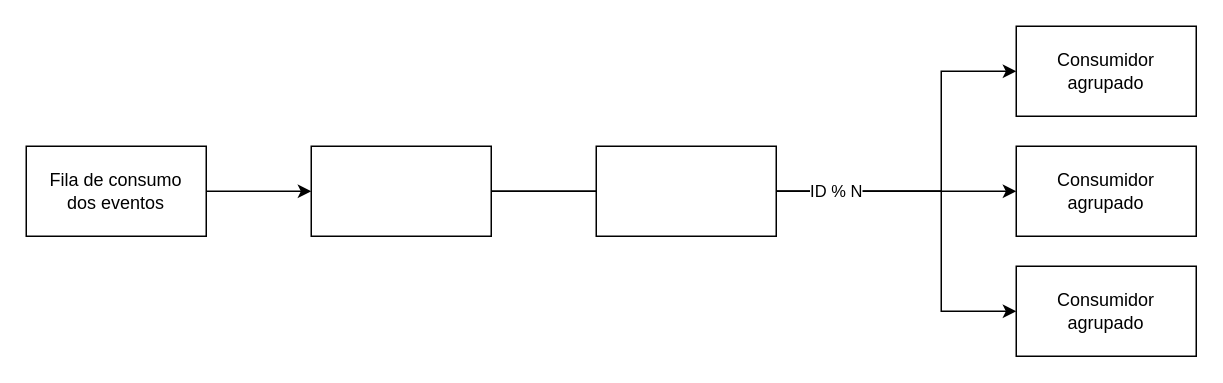
This 1223x383 diagram has some shape labels left out. Here are the shapes that lost their labels. From the top down, the box of each, then its label:
(310, 145, 491, 236): Consumidor
(595, 145, 776, 236): Distribuidor
